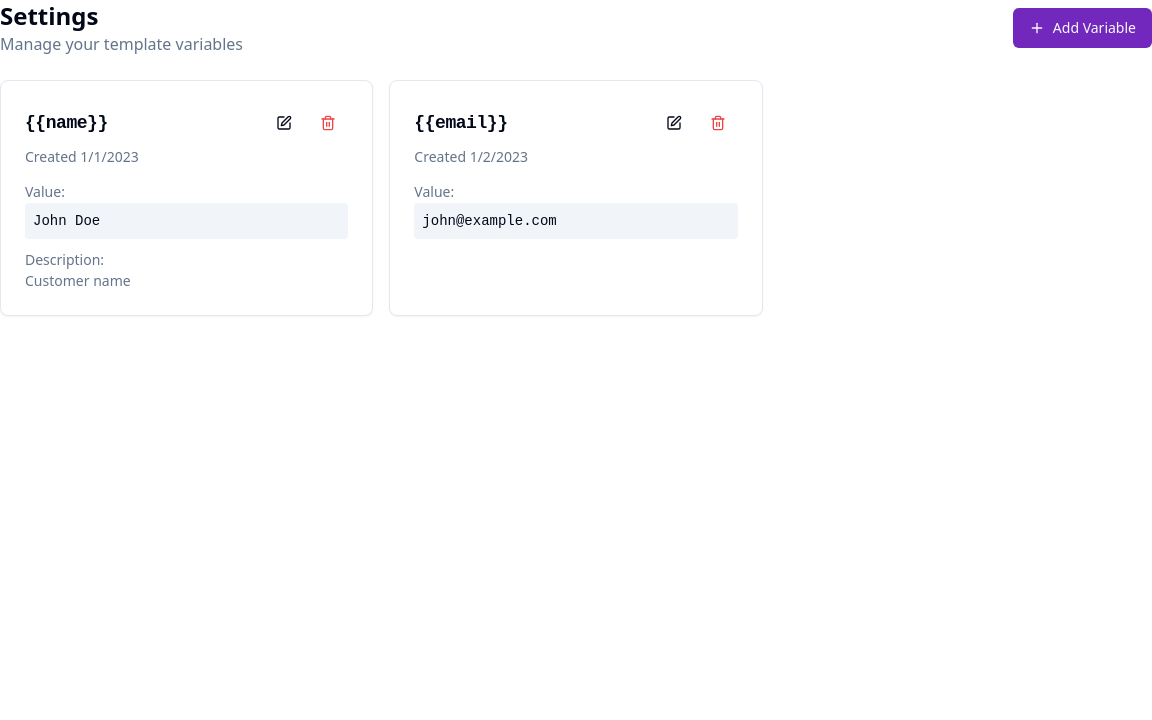
Settings › should show variable name syntax hint
The width and height of the screenshot is (1152, 720).
Click the button "Add Variable" at (1082, 28), box x1=1013 y1=8 x2=1151 y2=48
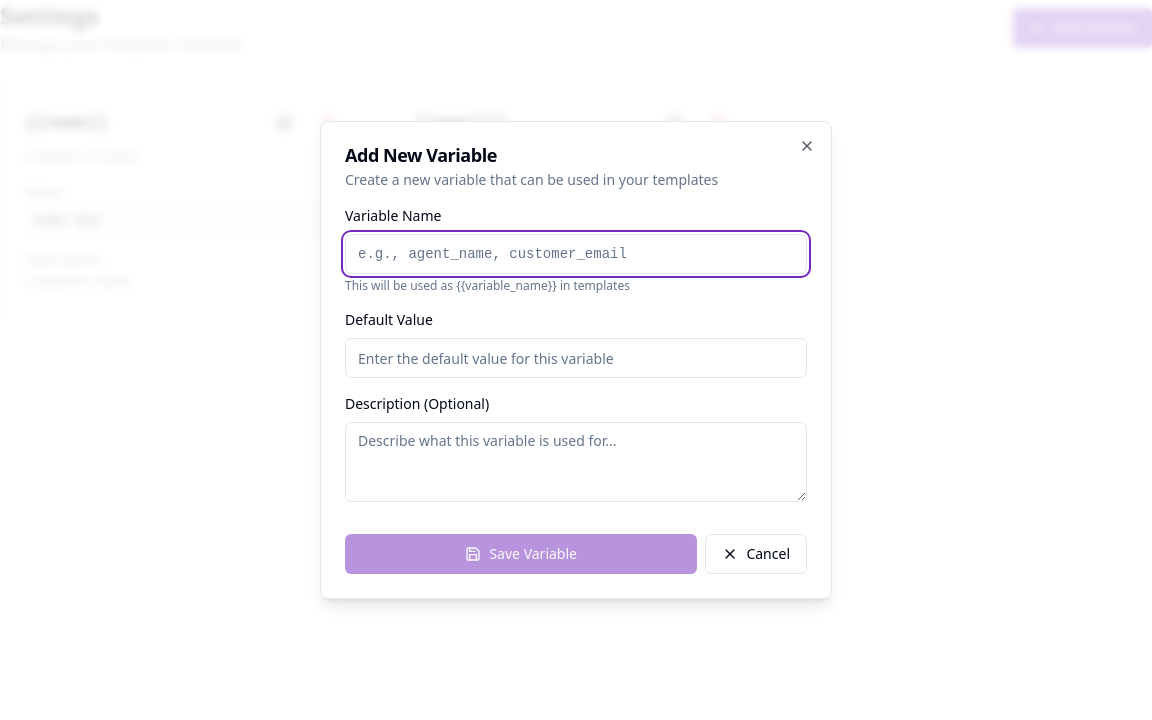
Type "test_var" into the field labelled "Variable Name" at (576, 254), box x1=345 y1=234 x2=807 y2=274
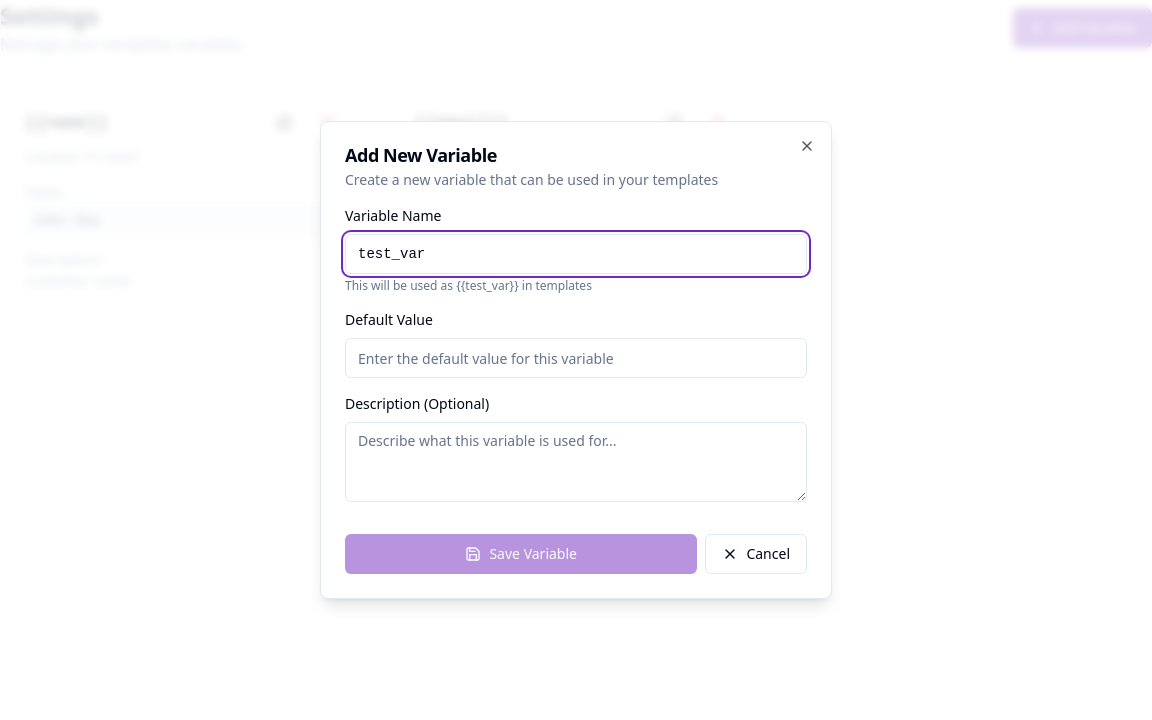
Expected: the text "This will be used as {{test_var}} in templates" is shown, x1=345 y1=277 x2=592 y2=294
